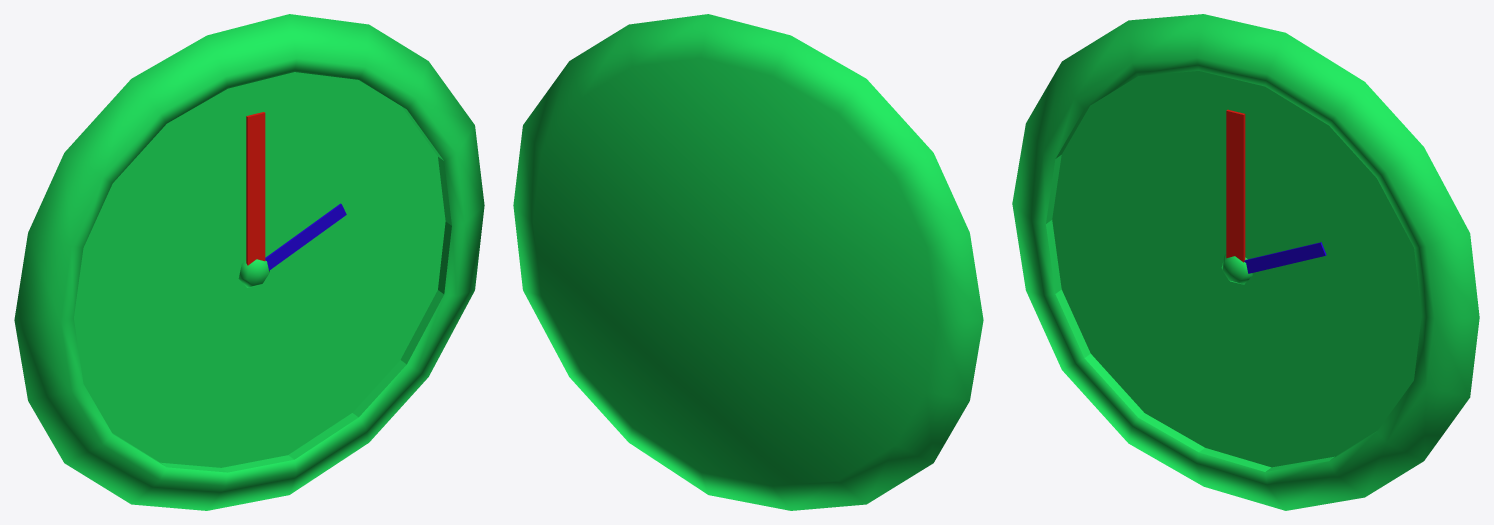
The model's file is Clock.fbx.
3 views of the same model, side by side, from view 1: azimuth 30°, elevation 25°; view 2: azimuth 150°, elevation 25°; view 3: azimuth 330°, elevation 25° (orthographic).
Visible parts, largest first — view 1: Clock, Minute, Hour; view 2: Clock; view 3: Clock, Minute, Hour.
Boxes of the visible parts, x1,y1,x2,y2 form: Clock: (14,14,484,510); Minute: (246,112,265,265); Hour: (265,203,346,270); Clock: (513,14,983,510); Clock: (1012,14,1479,510); Minute: (1226,109,1245,262); Hour: (1244,242,1326,273).
Size of the model in its own units: 0.5604 by 0.5479 by 0.0531.
